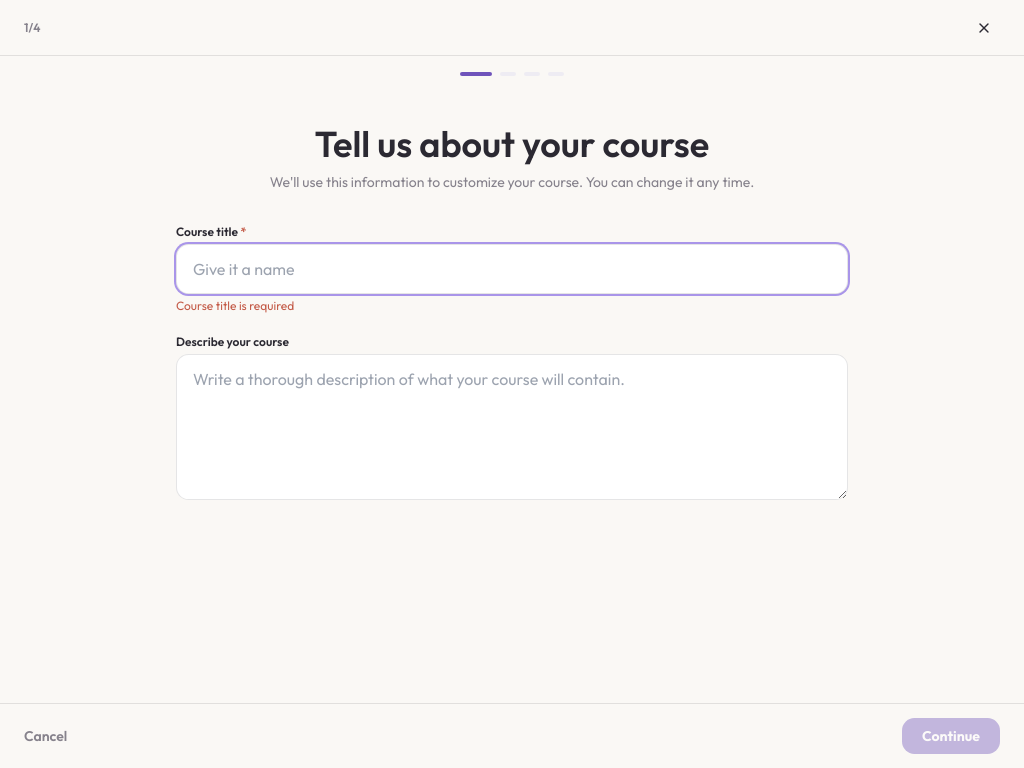
Test: NewCourseWizard › has no pricing step — About, Thumbnail, Outline, Confirm only
This screenshot has width=1024, height=768.
Expected: the text "1/4" is shown, [24,20,40,36]
Expected: the heading "Tell us about your course" is shown, [315,121,709,166]
Step 1. Type "My Course" into the field with placeholder "Give it a name" → (512,269), box [176,244,848,294]
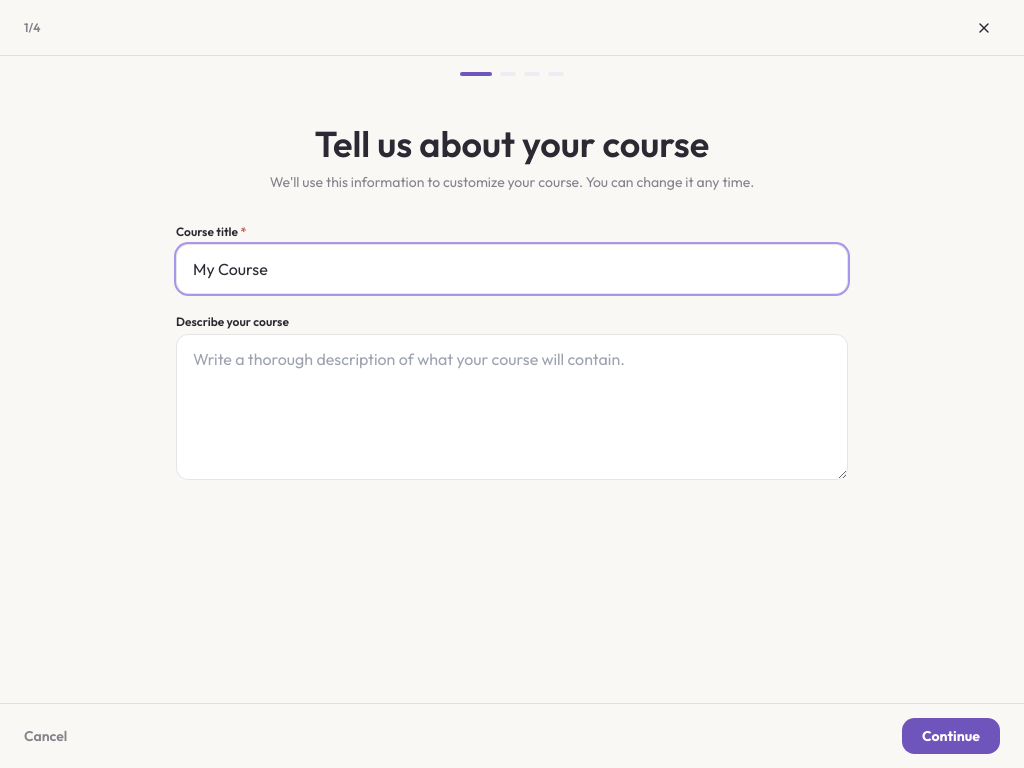
Step 2. Click the button "Continue" → (951,736), box [902,718,1000,754]
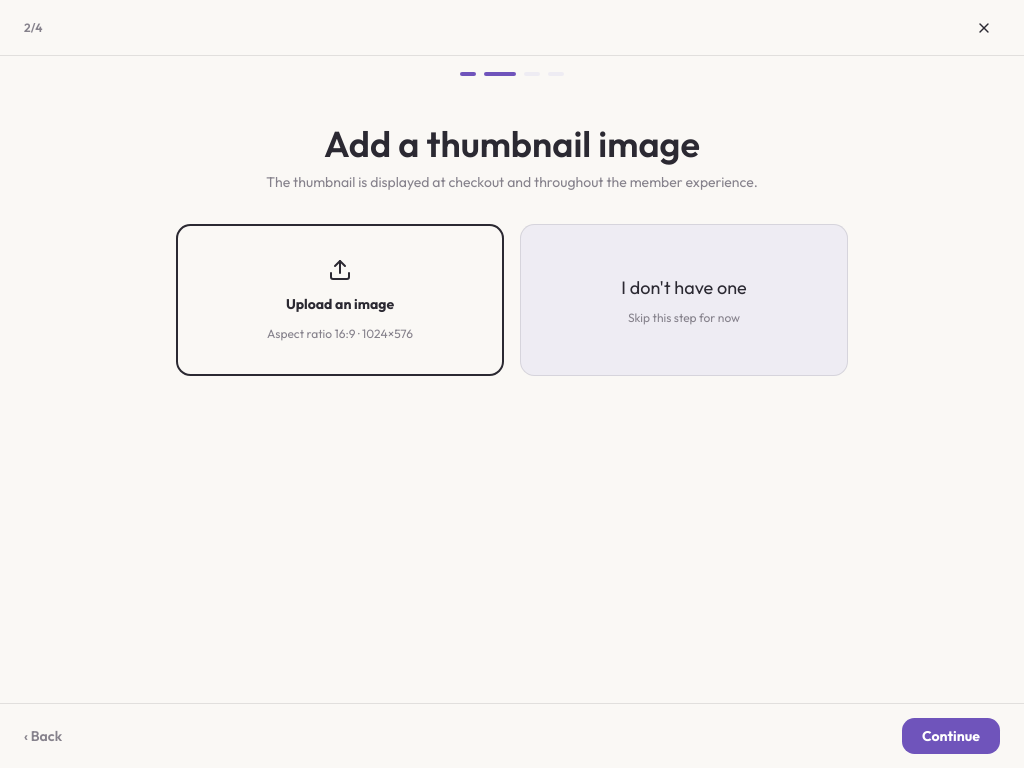
Expected: the heading "Add a thumbnail image" is shown, [324,121,700,166]
Step 3. Click the button "Continue" → (951,736), box [902,718,1000,754]
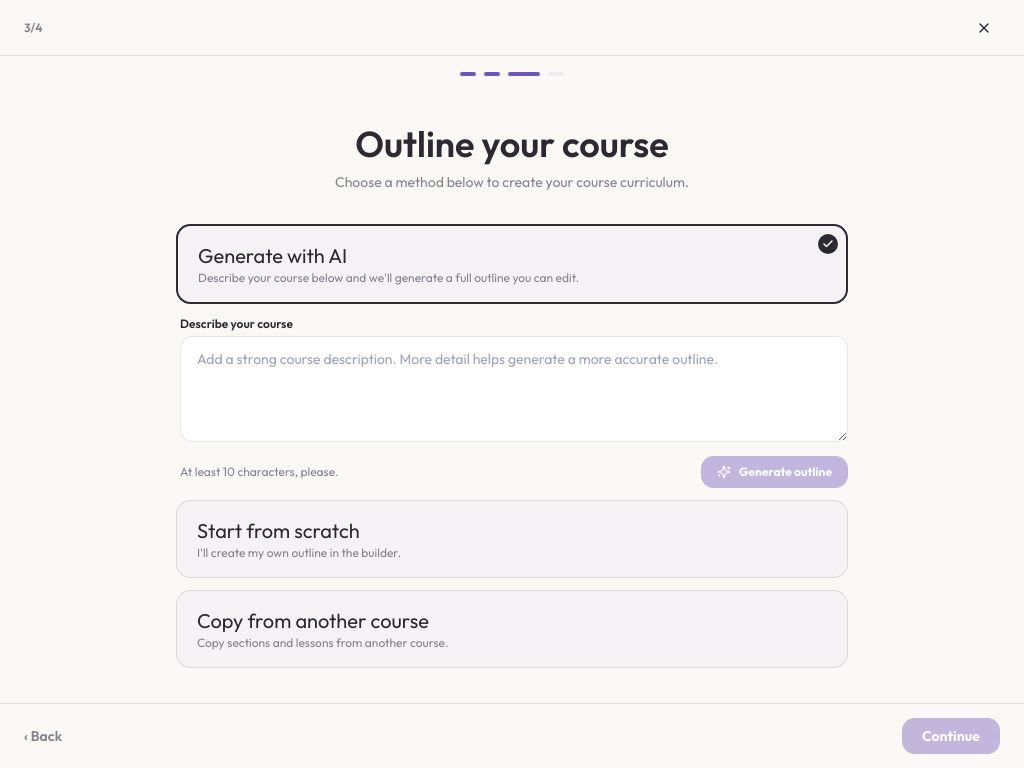
Expected: the heading "Outline your course" is shown, [355,121,669,166]
Step 4. Click the text "Start from scratch" → (278,530), box [197,518,360,543]
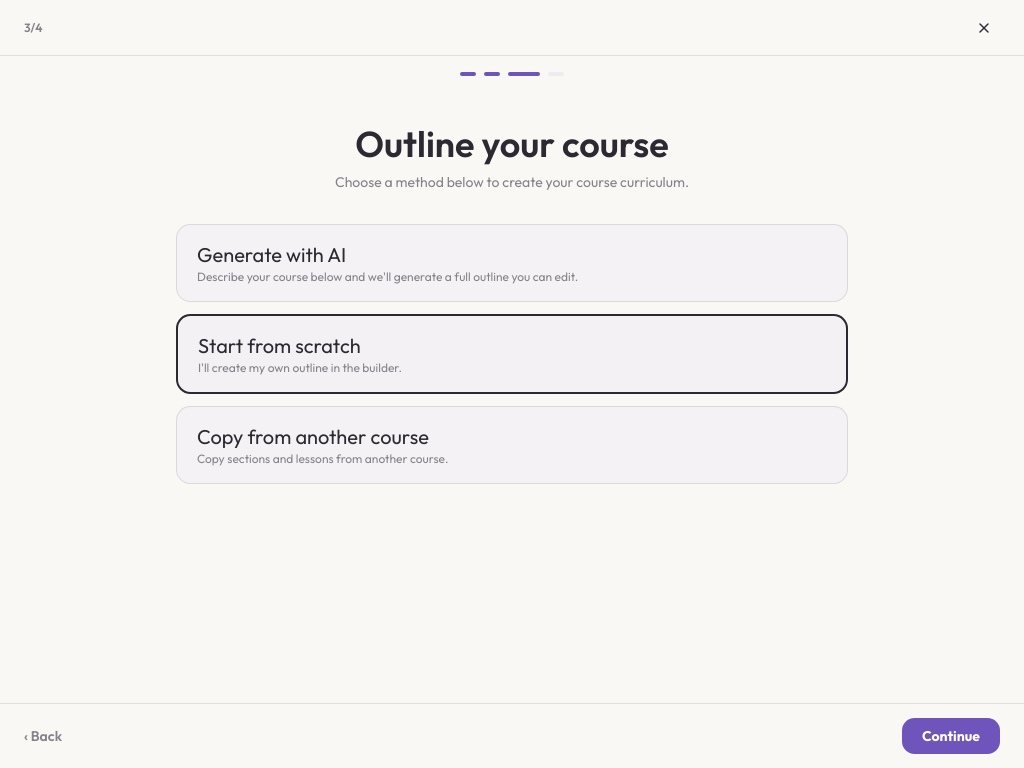
Step 5. Click the button "Continue" → (951,736), box [902,718,1000,754]
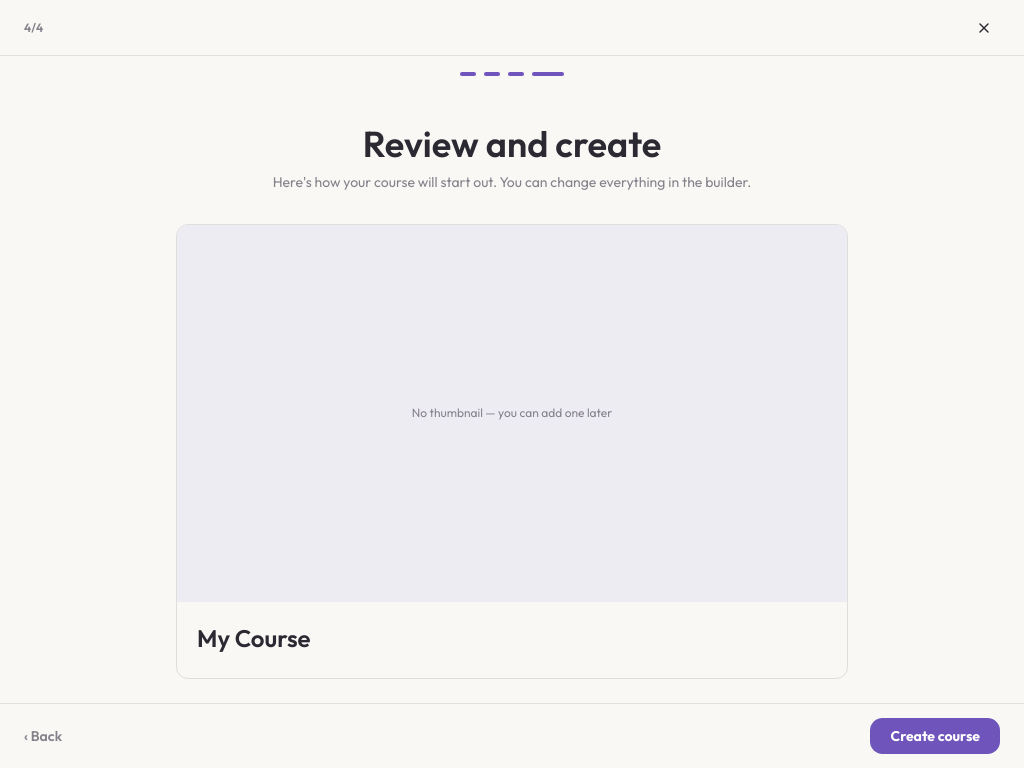
Expected: the heading "Review and create" is shown, [363,121,661,166]
Expected: the button "Create course" is shown, [870,718,1000,754]
